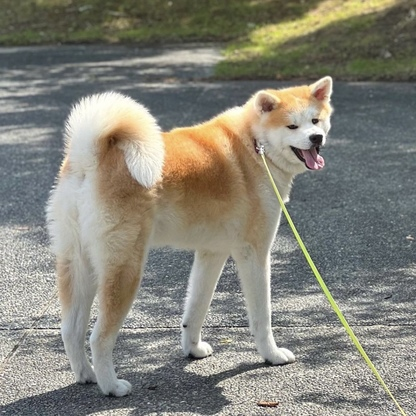akita: (40, 70, 336, 402)
